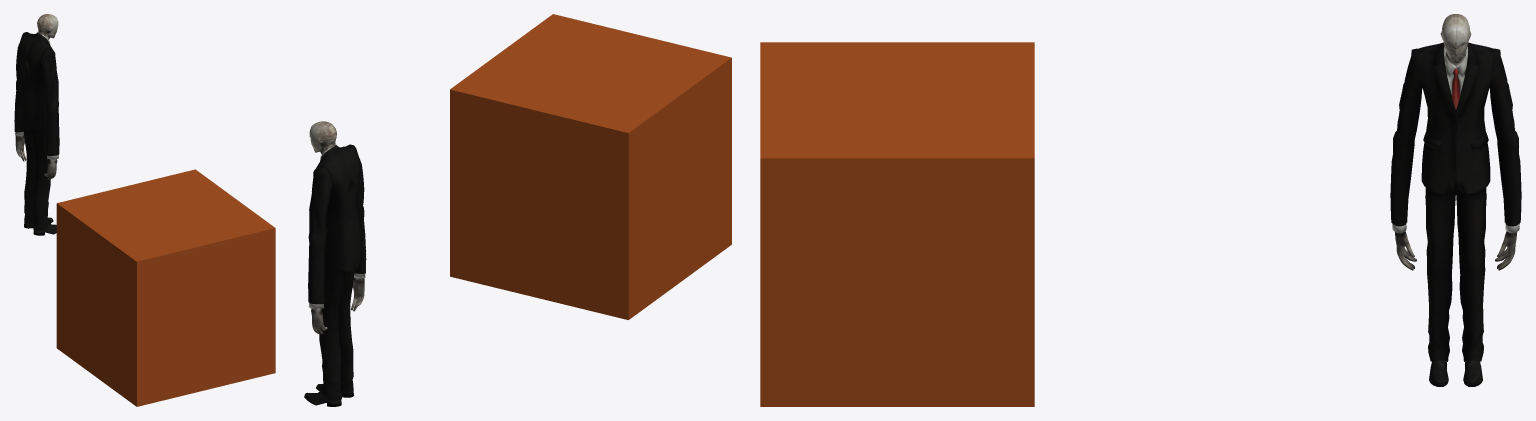
3 renders of one model, left to right at view 1: azimuth 30°, elevation 25°; view 2: azimuth 150°, elevation 25°; view 3: azimuth 270°, elevation 25°, orthographic. The views are drawn at different scales.
Parts seen in each view (by area): view 1: Cube.001, Slenderman; view 2: Cube.001, Slenderman; view 3: Cube.001, Slenderman.
Boxes of the visible parts, x1=… form: Cube.001: x1=56, y1=169, x2=275, y2=406; Slenderman: x1=14, y1=14, x2=59, y2=235; Cube.001: x1=450, y1=14, x2=731, y2=319; Slenderman: x1=304, y1=121, x2=366, y2=406; Cube.001: x1=760, y1=42, x2=1034, y2=406; Slenderman: x1=1390, y1=14, x2=1521, y2=386.
Size of what is drawn, in the model's own units: 2 by 2.98 by 5.55.
2 materials, 1 textured.
